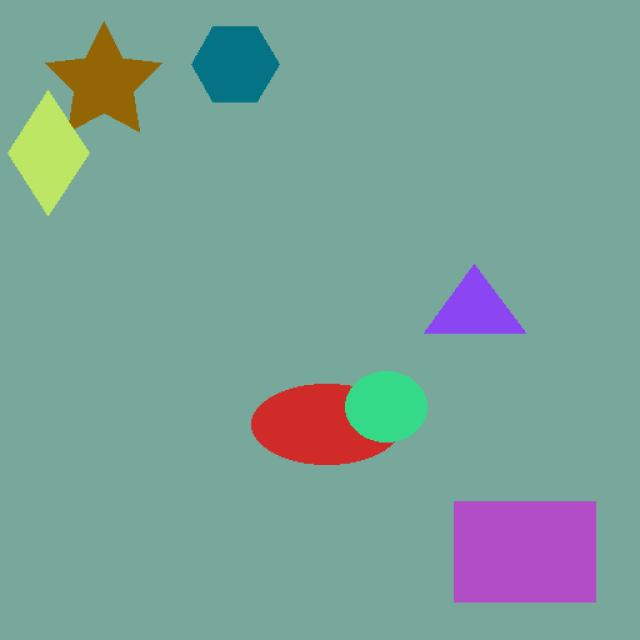Circle: (340, 358, 457, 458)
Hexagon: (9, 87, 94, 228), (185, 14, 300, 115)
Oval: (248, 375, 402, 483)
Rectangle: (439, 486, 607, 613)
Star: (36, 17, 181, 144)
Triangle: (411, 249, 538, 354)
